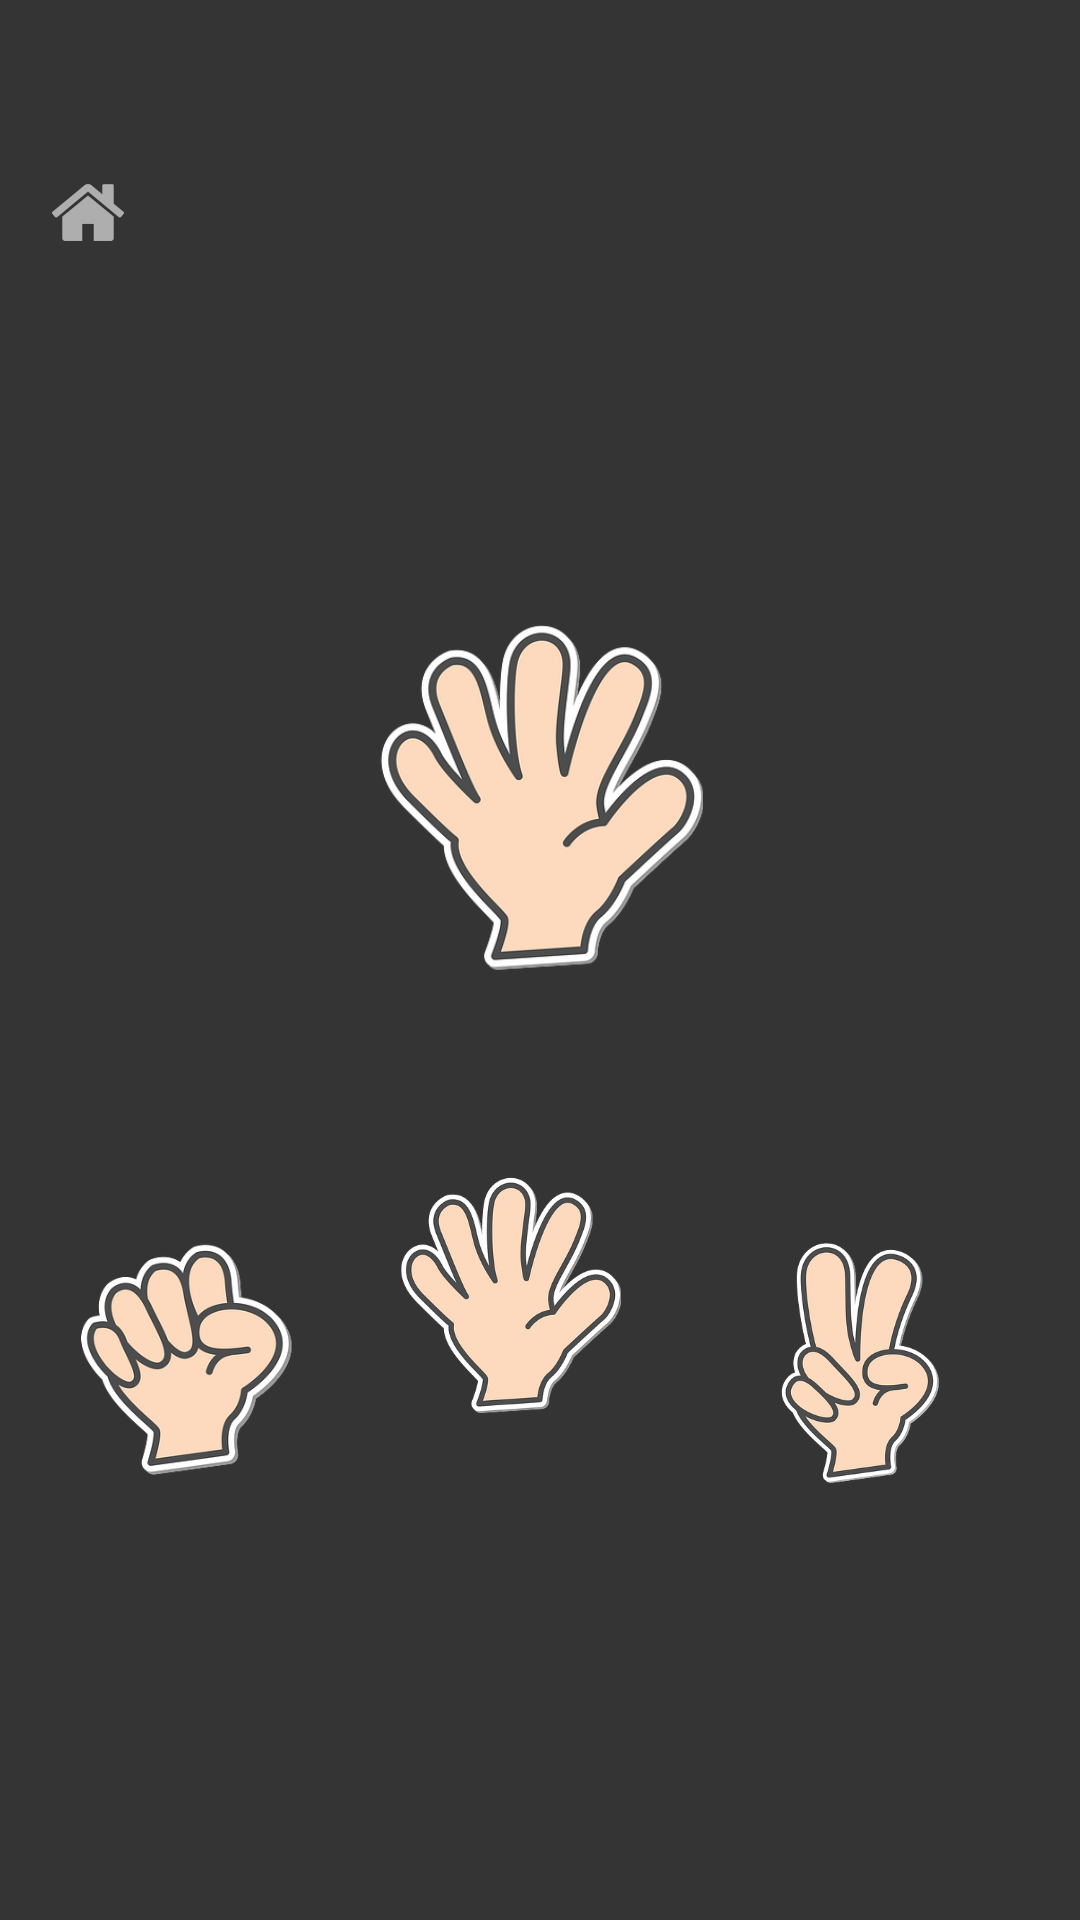

Icon bounding boxes for this 1080 x 1920 phone screenshot, format (x1, y1, x2, y2):
Home: (52, 184, 124, 241)
paper: (381, 625, 703, 970), (401, 1178, 621, 1413)
rock: (81, 1244, 292, 1475)
scissors: (781, 1243, 939, 1483)
